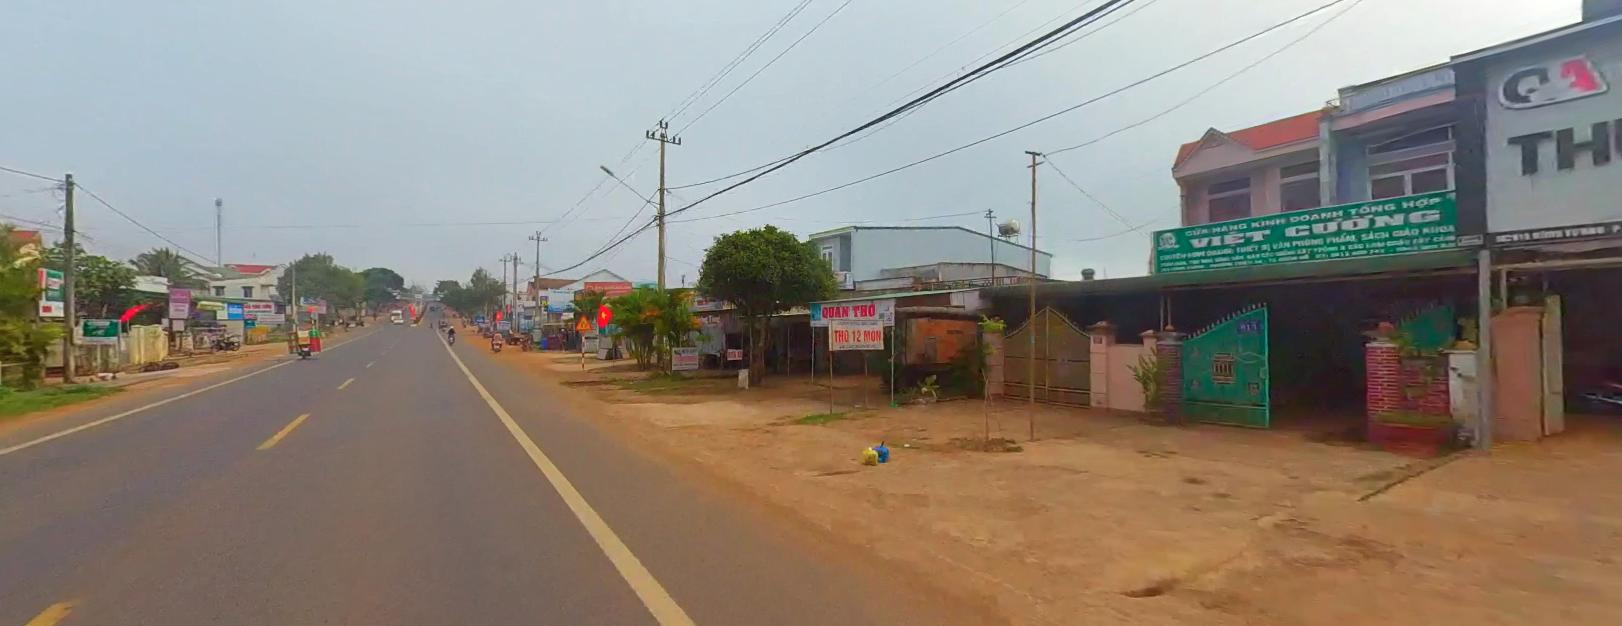Nguy hiem: (573, 312, 592, 329)
